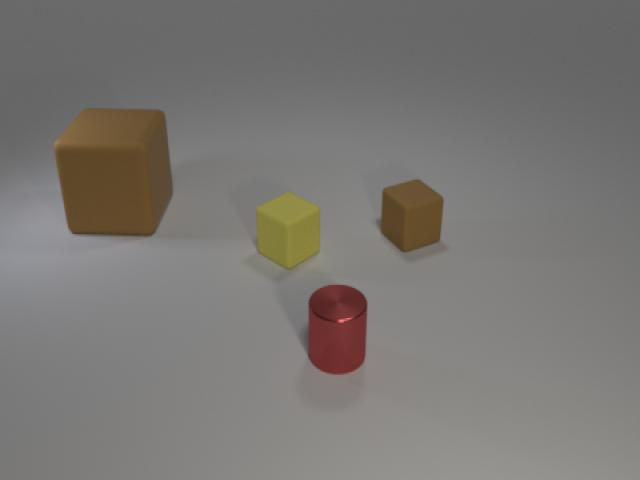cylinder: (303, 278, 375, 380)
